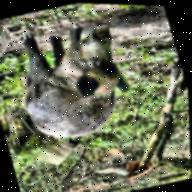boar: (4, 12, 144, 150)
